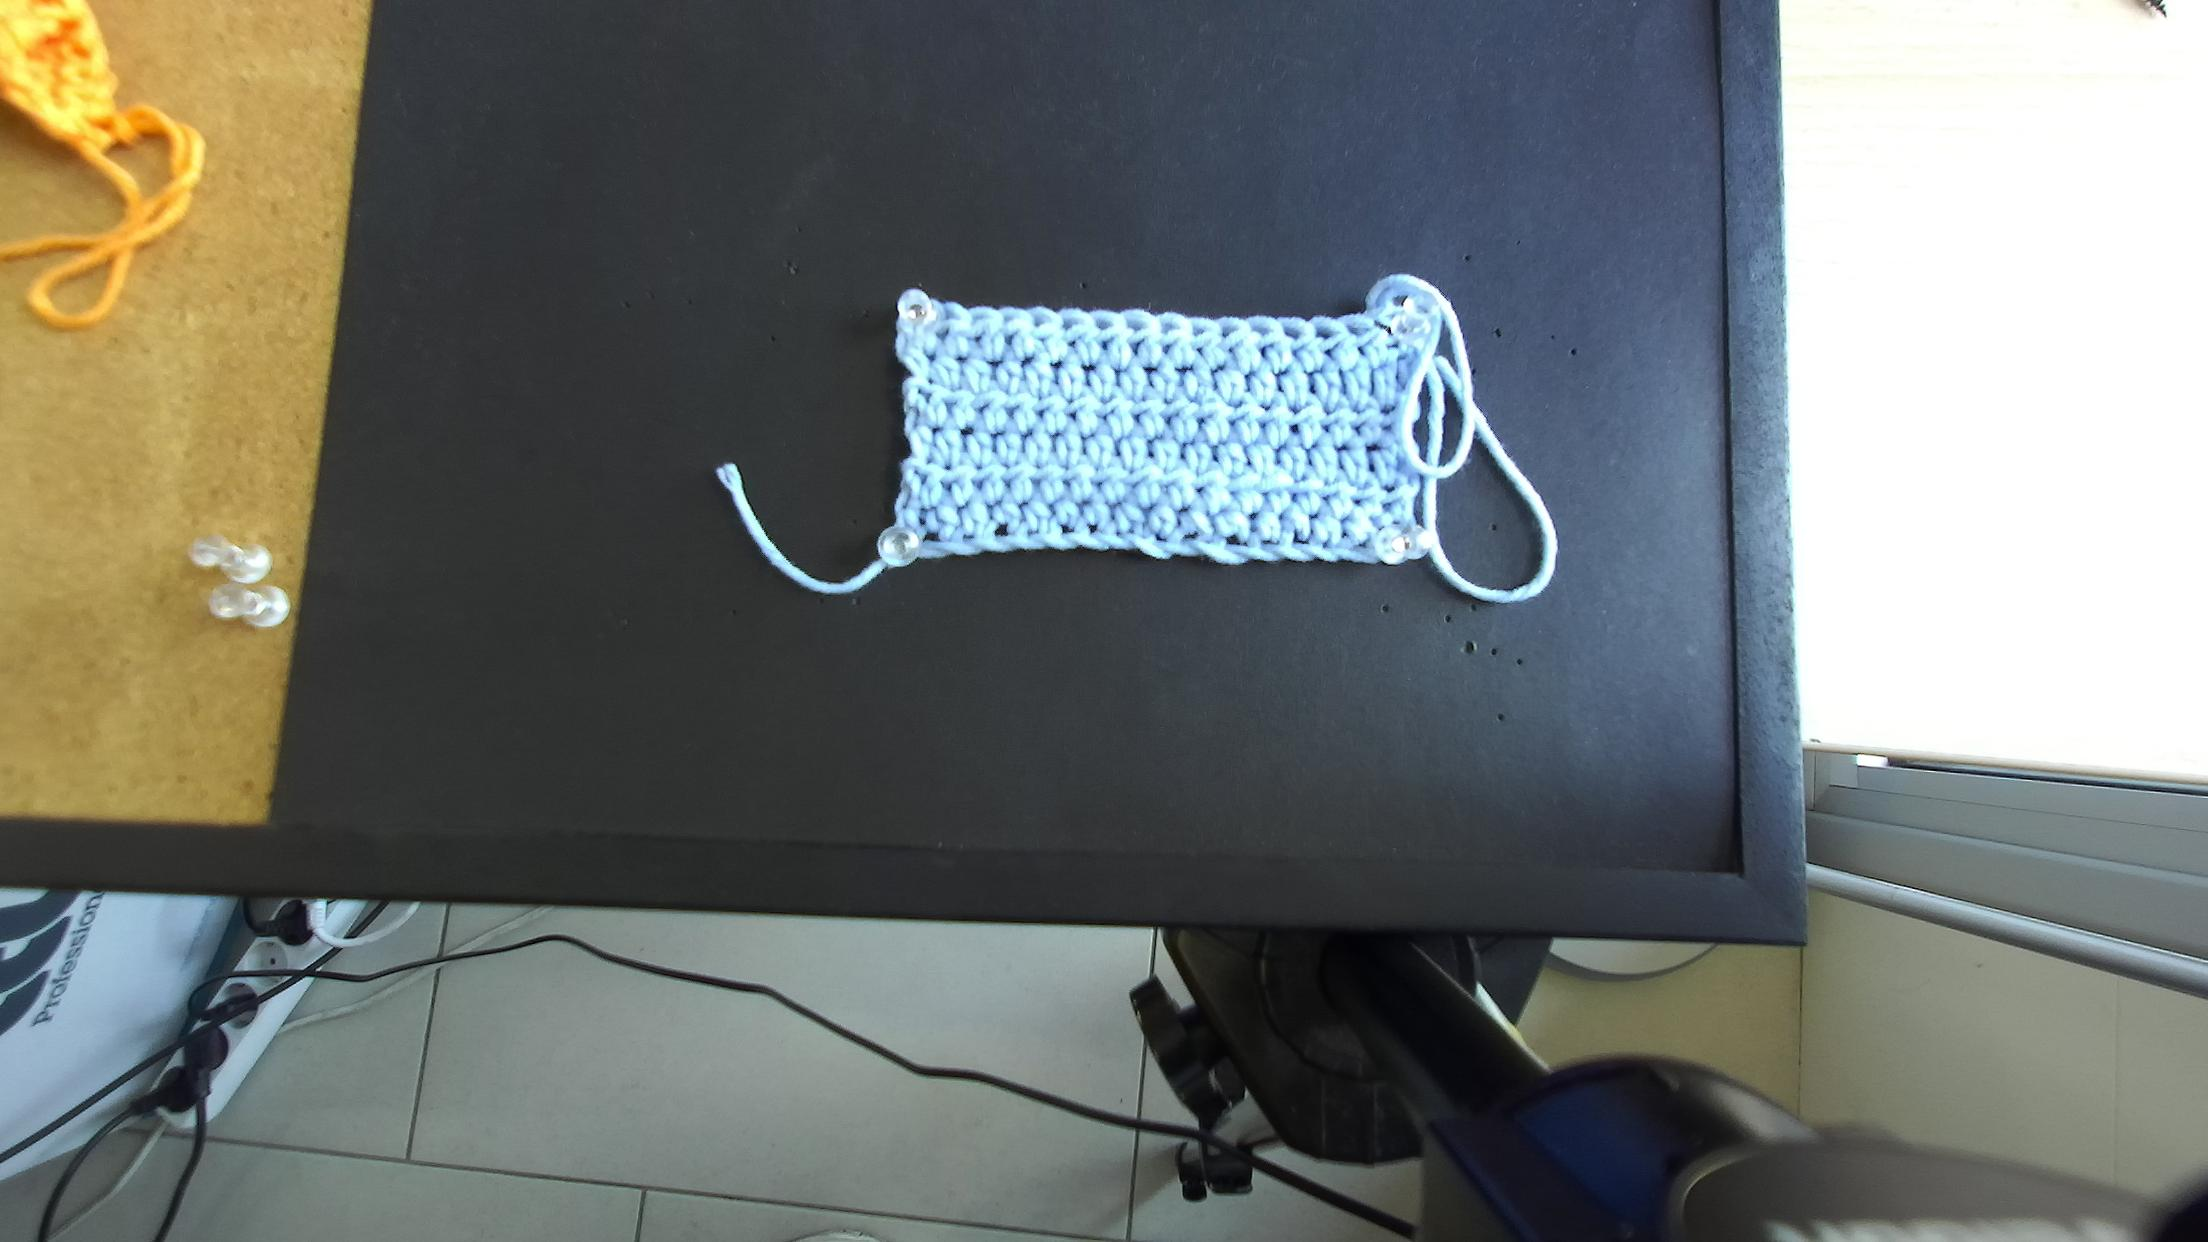hole: (1281, 326, 1303, 343), (1315, 326, 1335, 343), (1374, 320, 1394, 337), (1062, 317, 1084, 331), (1159, 321, 1178, 337), (1250, 325, 1274, 337), (1127, 320, 1148, 334), (1218, 326, 1239, 338), (972, 314, 990, 326), (1095, 318, 1113, 331), (1345, 325, 1360, 338), (1001, 314, 1018, 325), (1033, 315, 1046, 328), (1192, 325, 1206, 337), (945, 309, 960, 320)
swatch: (878, 282, 1441, 569)
